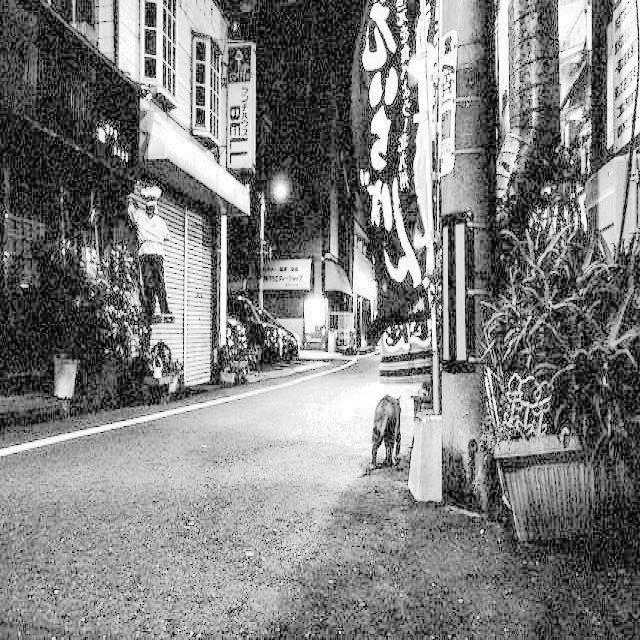Cat: (350, 373, 409, 490)
